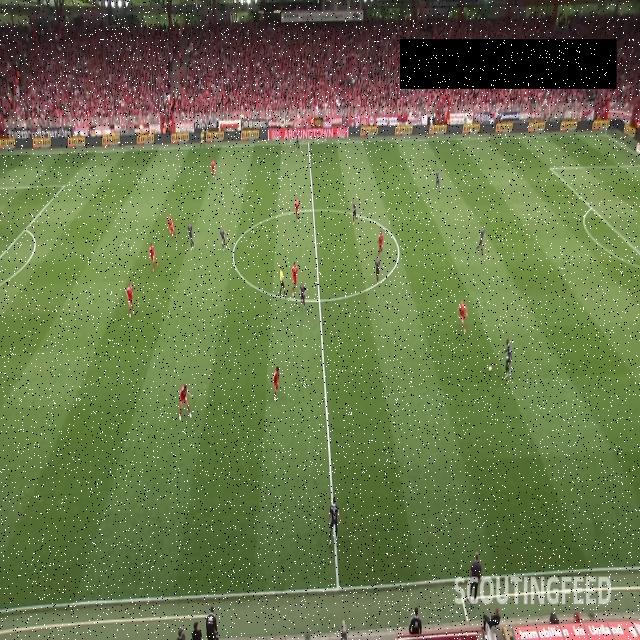Ball: (488, 365, 492, 373)
Referee: (280, 266, 288, 300), (200, 130, 205, 148)
TEAM 1: (178, 384, 192, 422), (457, 299, 468, 335), (126, 282, 135, 318), (148, 243, 159, 272), (290, 260, 298, 298), (272, 366, 280, 402), (167, 214, 178, 240), (377, 230, 384, 259), (294, 196, 300, 224), (211, 158, 217, 180)
TEAM 2: (328, 496, 340, 546), (502, 338, 513, 378), (477, 225, 486, 256), (219, 230, 230, 253), (187, 222, 195, 250), (352, 200, 359, 227), (300, 281, 306, 310), (375, 256, 381, 284), (435, 168, 441, 194), (295, 130, 302, 151)
